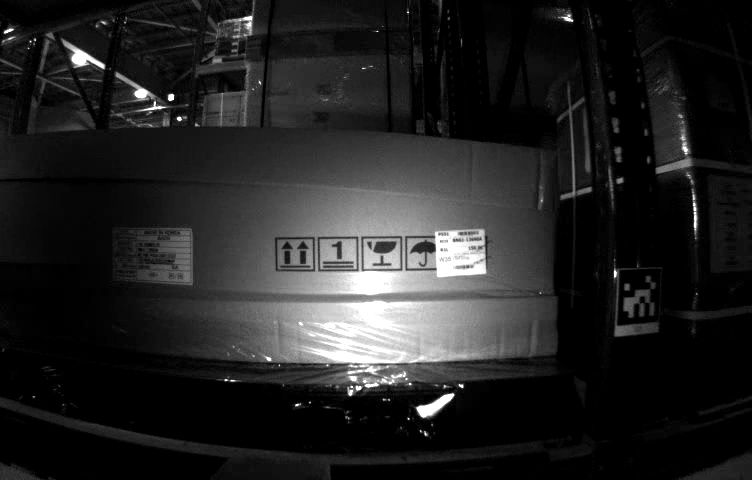True Barcode: (433, 226, 487, 276), (704, 75, 739, 111)
